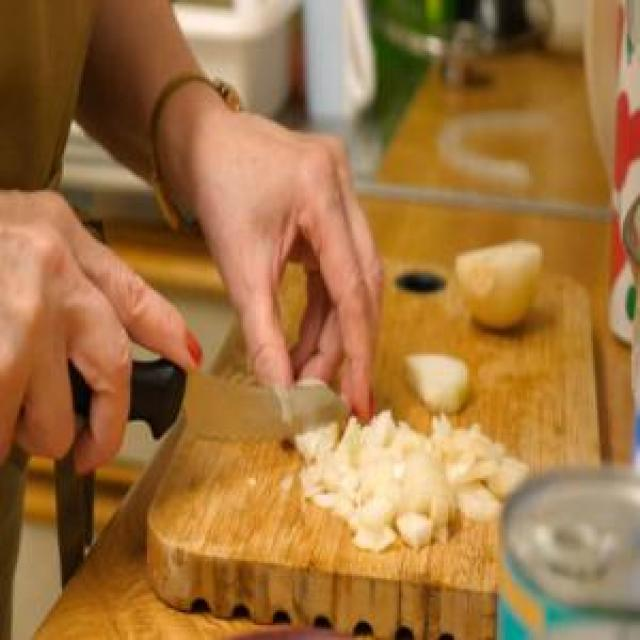knife: (54, 358, 356, 441)
